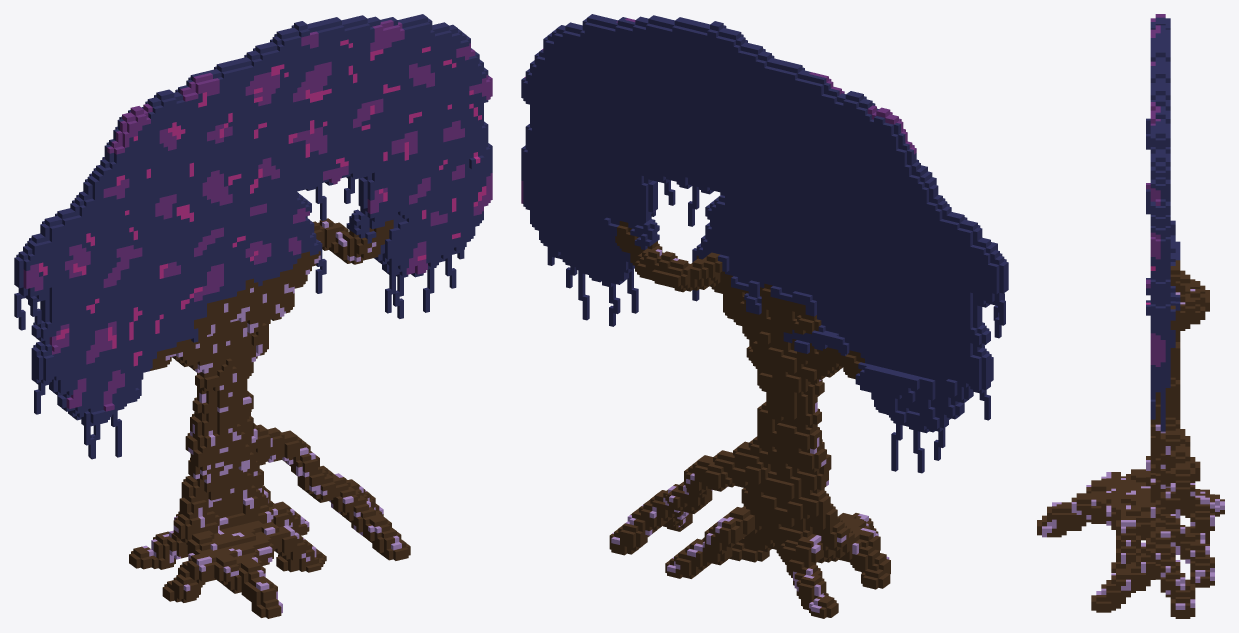
File: PurpleTreeOpen.FBX
3 renders of one model, left to right at view 1: azimuth 30°, elevation 25°; view 2: azimuth 150°, elevation 25°; view 3: azimuth 270°, elevation 25°, orthographic. The views are drawn at different scales.
Visible parts, largest first — view 1: TreePurpleOpen; view 2: TreePurpleOpen; view 3: TreePurpleOpen.
Boxes of the visible parts, left/top/right/bottom form: TreePurpleOpen: left=14, top=14, right=492, bottom=618; TreePurpleOpen: left=521, top=14, right=1008, bottom=618; TreePurpleOpen: left=1037, top=14, right=1224, bottom=618.
Bounding box in the file's own units: 110 × 117 × 38.
